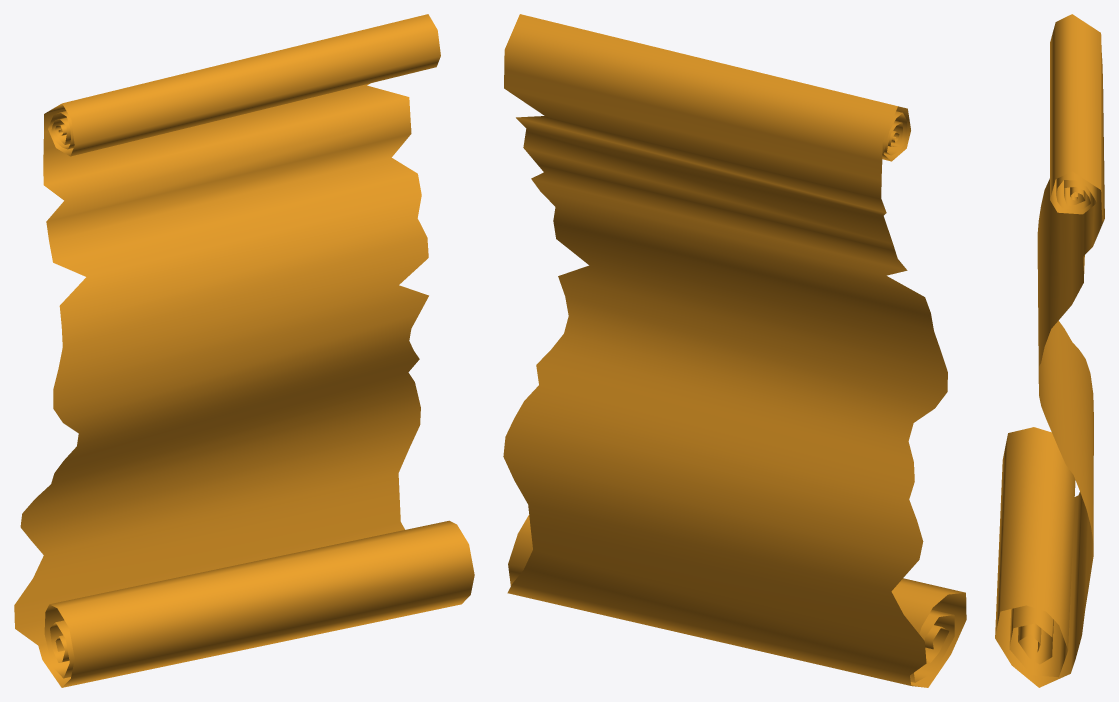
The model's file is paper.fbx.
3 views of the same model, side by side, from view 1: azimuth 30°, elevation 25°; view 2: azimuth 150°, elevation 25°; view 3: azimuth 270°, elevation 25° (orthographic). The views are drawn at different scales.
Parts seen in each view (by area): view 1: Plane; view 2: Plane; view 3: Plane.
Boxes of the visible parts, x1,y1,x2,y2 form: Plane: [14, 14, 474, 687]; Plane: [503, 14, 966, 687]; Plane: [995, 14, 1104, 687].
Size of the model in its own units: 147 by 195 by 38.04.
